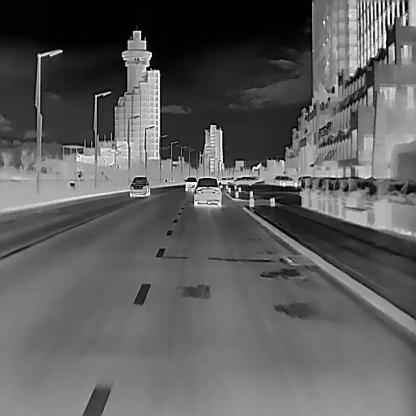car: (193, 176, 221, 208), (127, 174, 149, 198), (274, 173, 296, 188), (233, 174, 256, 184), (183, 176, 196, 190)
